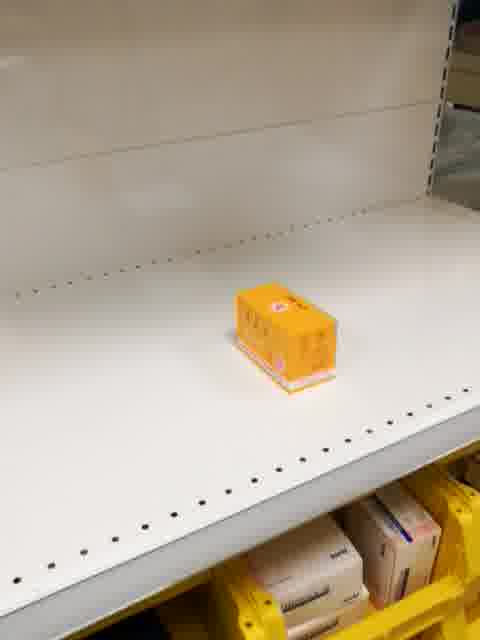jasminetea: (235, 278, 339, 394)
